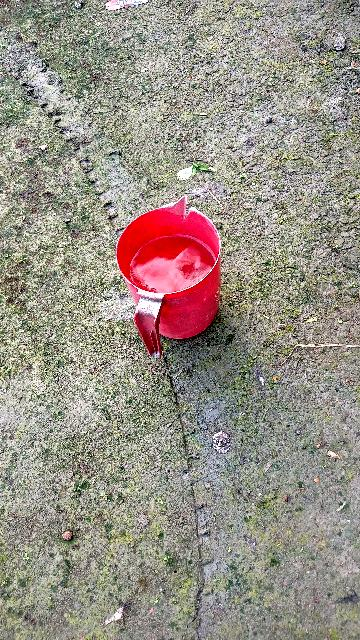hardplastic: (117, 212, 224, 340)
